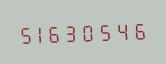five: (17, 22, 32, 45), (97, 19, 112, 42)
four: (113, 18, 128, 42)
one: (33, 21, 48, 45)
six: (49, 21, 64, 44), (129, 18, 144, 41)
three: (65, 20, 80, 44)
zero: (81, 20, 96, 43)
